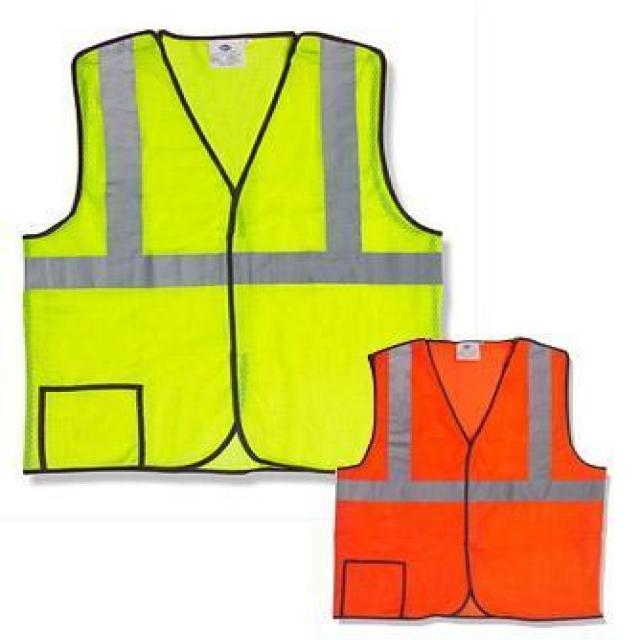Vest: (21, 37, 443, 476), (332, 336, 608, 624)
